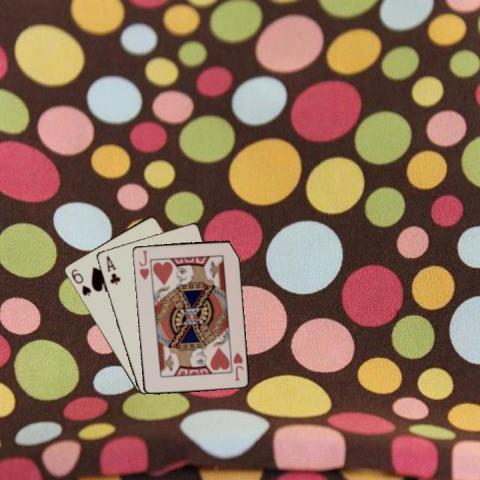6s: (68, 266, 93, 297)
Ac: (104, 253, 122, 286)
Jh: (135, 248, 150, 282), (230, 349, 245, 382)
